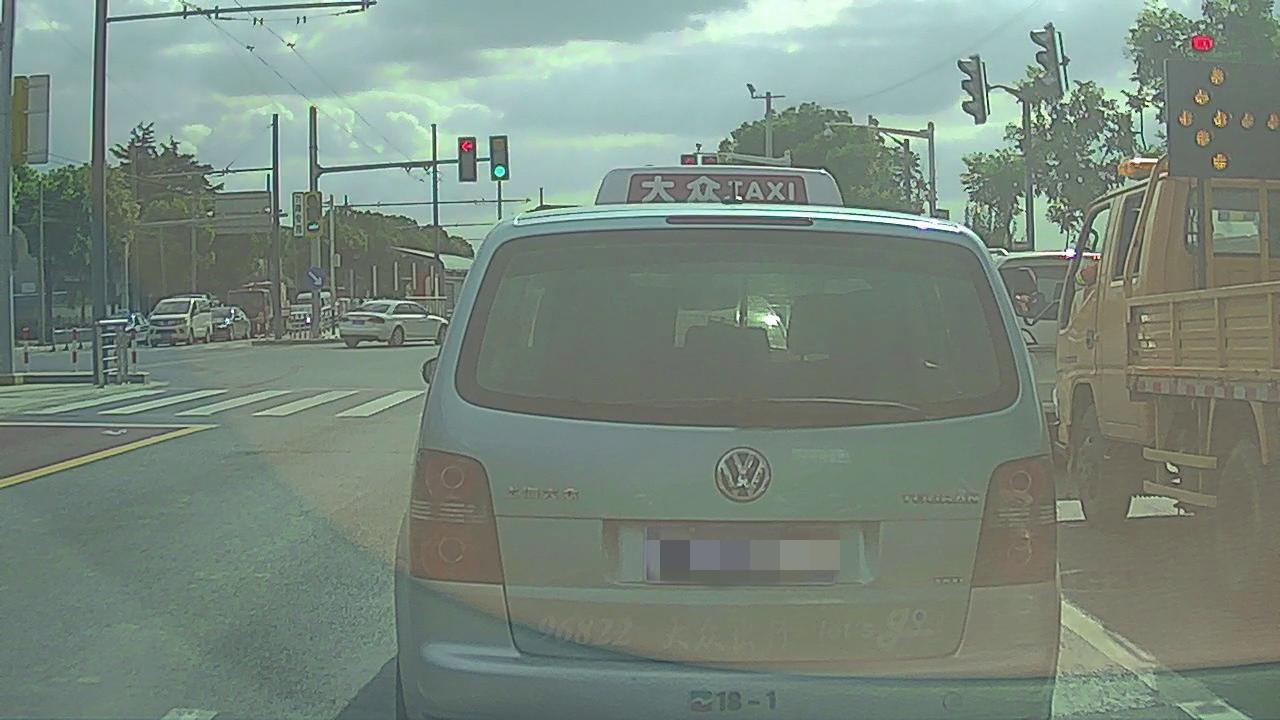traffic_light: (458, 137, 476, 182), (492, 137, 508, 180)
